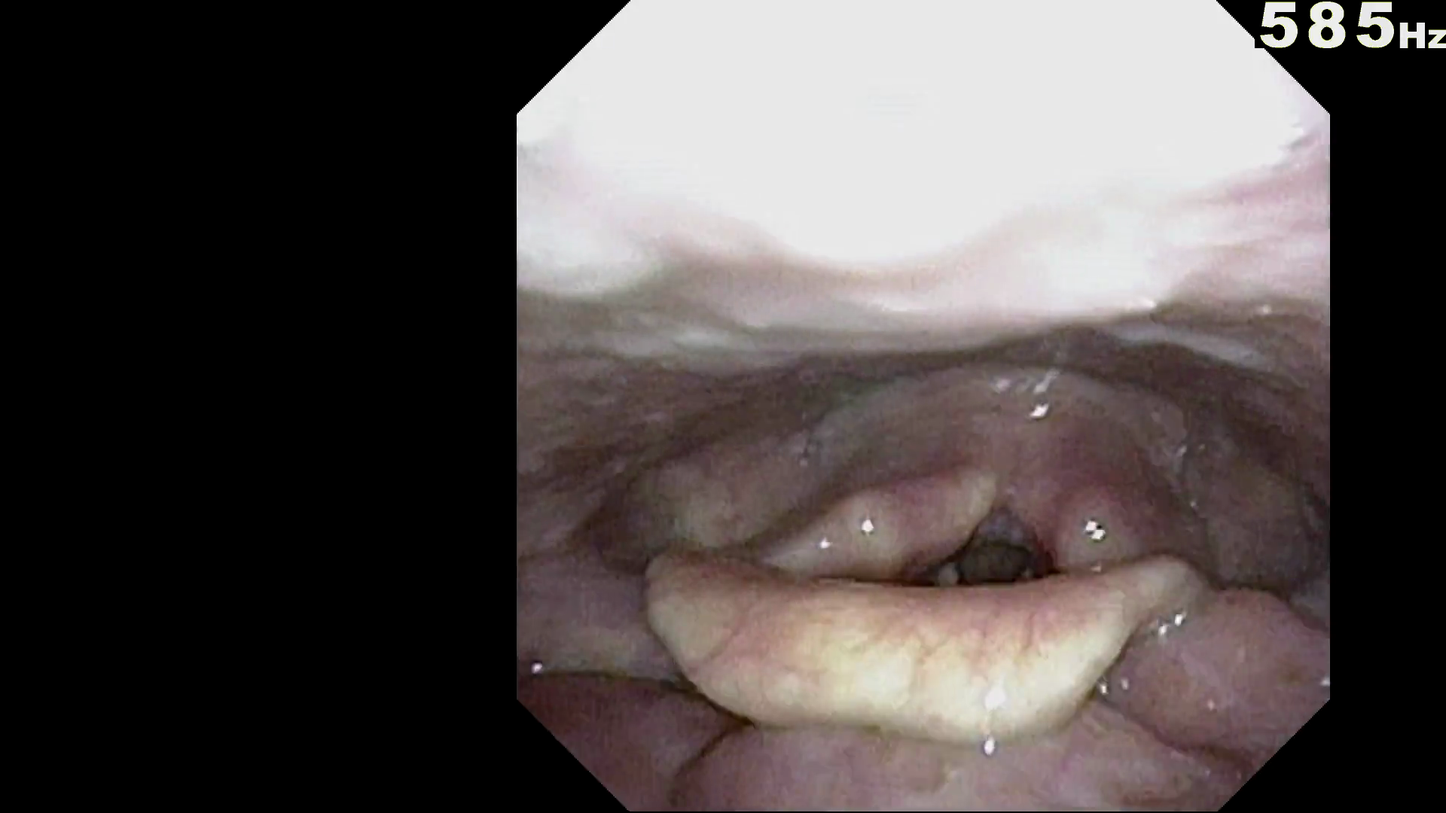epiglottis: (687, 551, 1228, 691)
trachea: (926, 533, 1054, 627)
